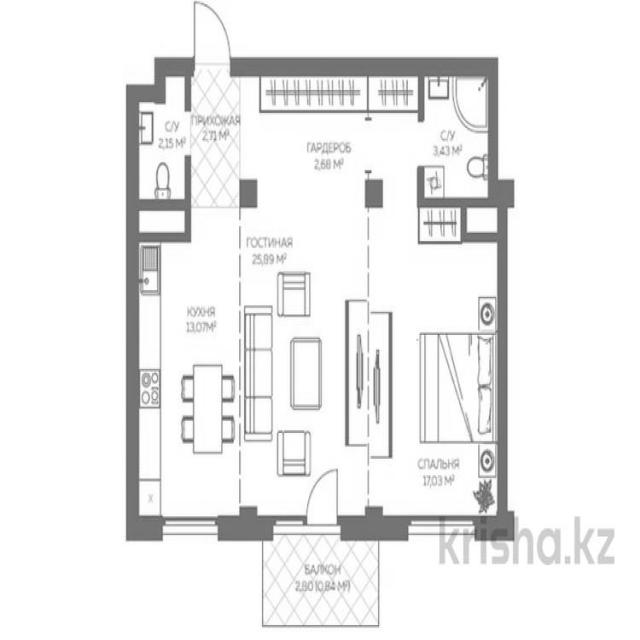balcony: (262, 531, 378, 628)
bathroom: (420, 68, 494, 202)
hallway: (189, 64, 243, 204), (134, 100, 190, 201)
kitchen: (135, 203, 241, 526)
living_room: (368, 198, 501, 530), (240, 202, 368, 527)
other: (244, 70, 421, 193)
